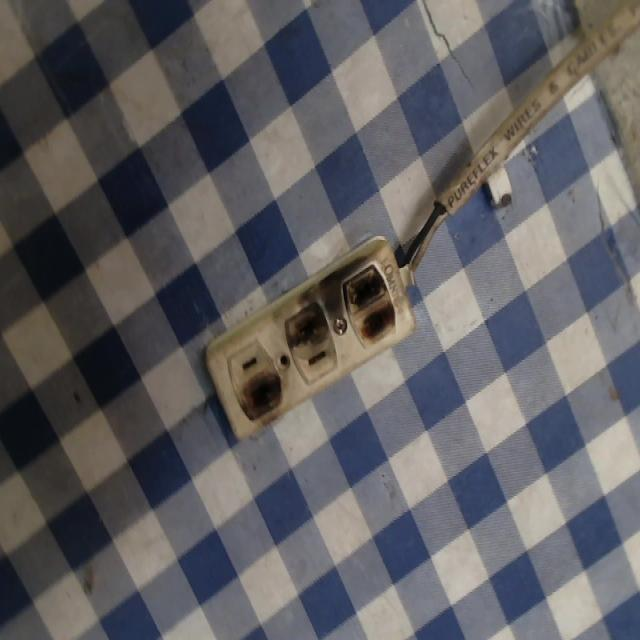-: (342, 261, 401, 352), (279, 297, 337, 351), (241, 367, 286, 417)
